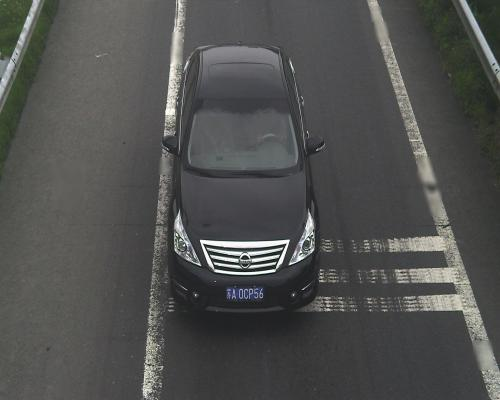Carplate: (224, 278, 268, 306)
